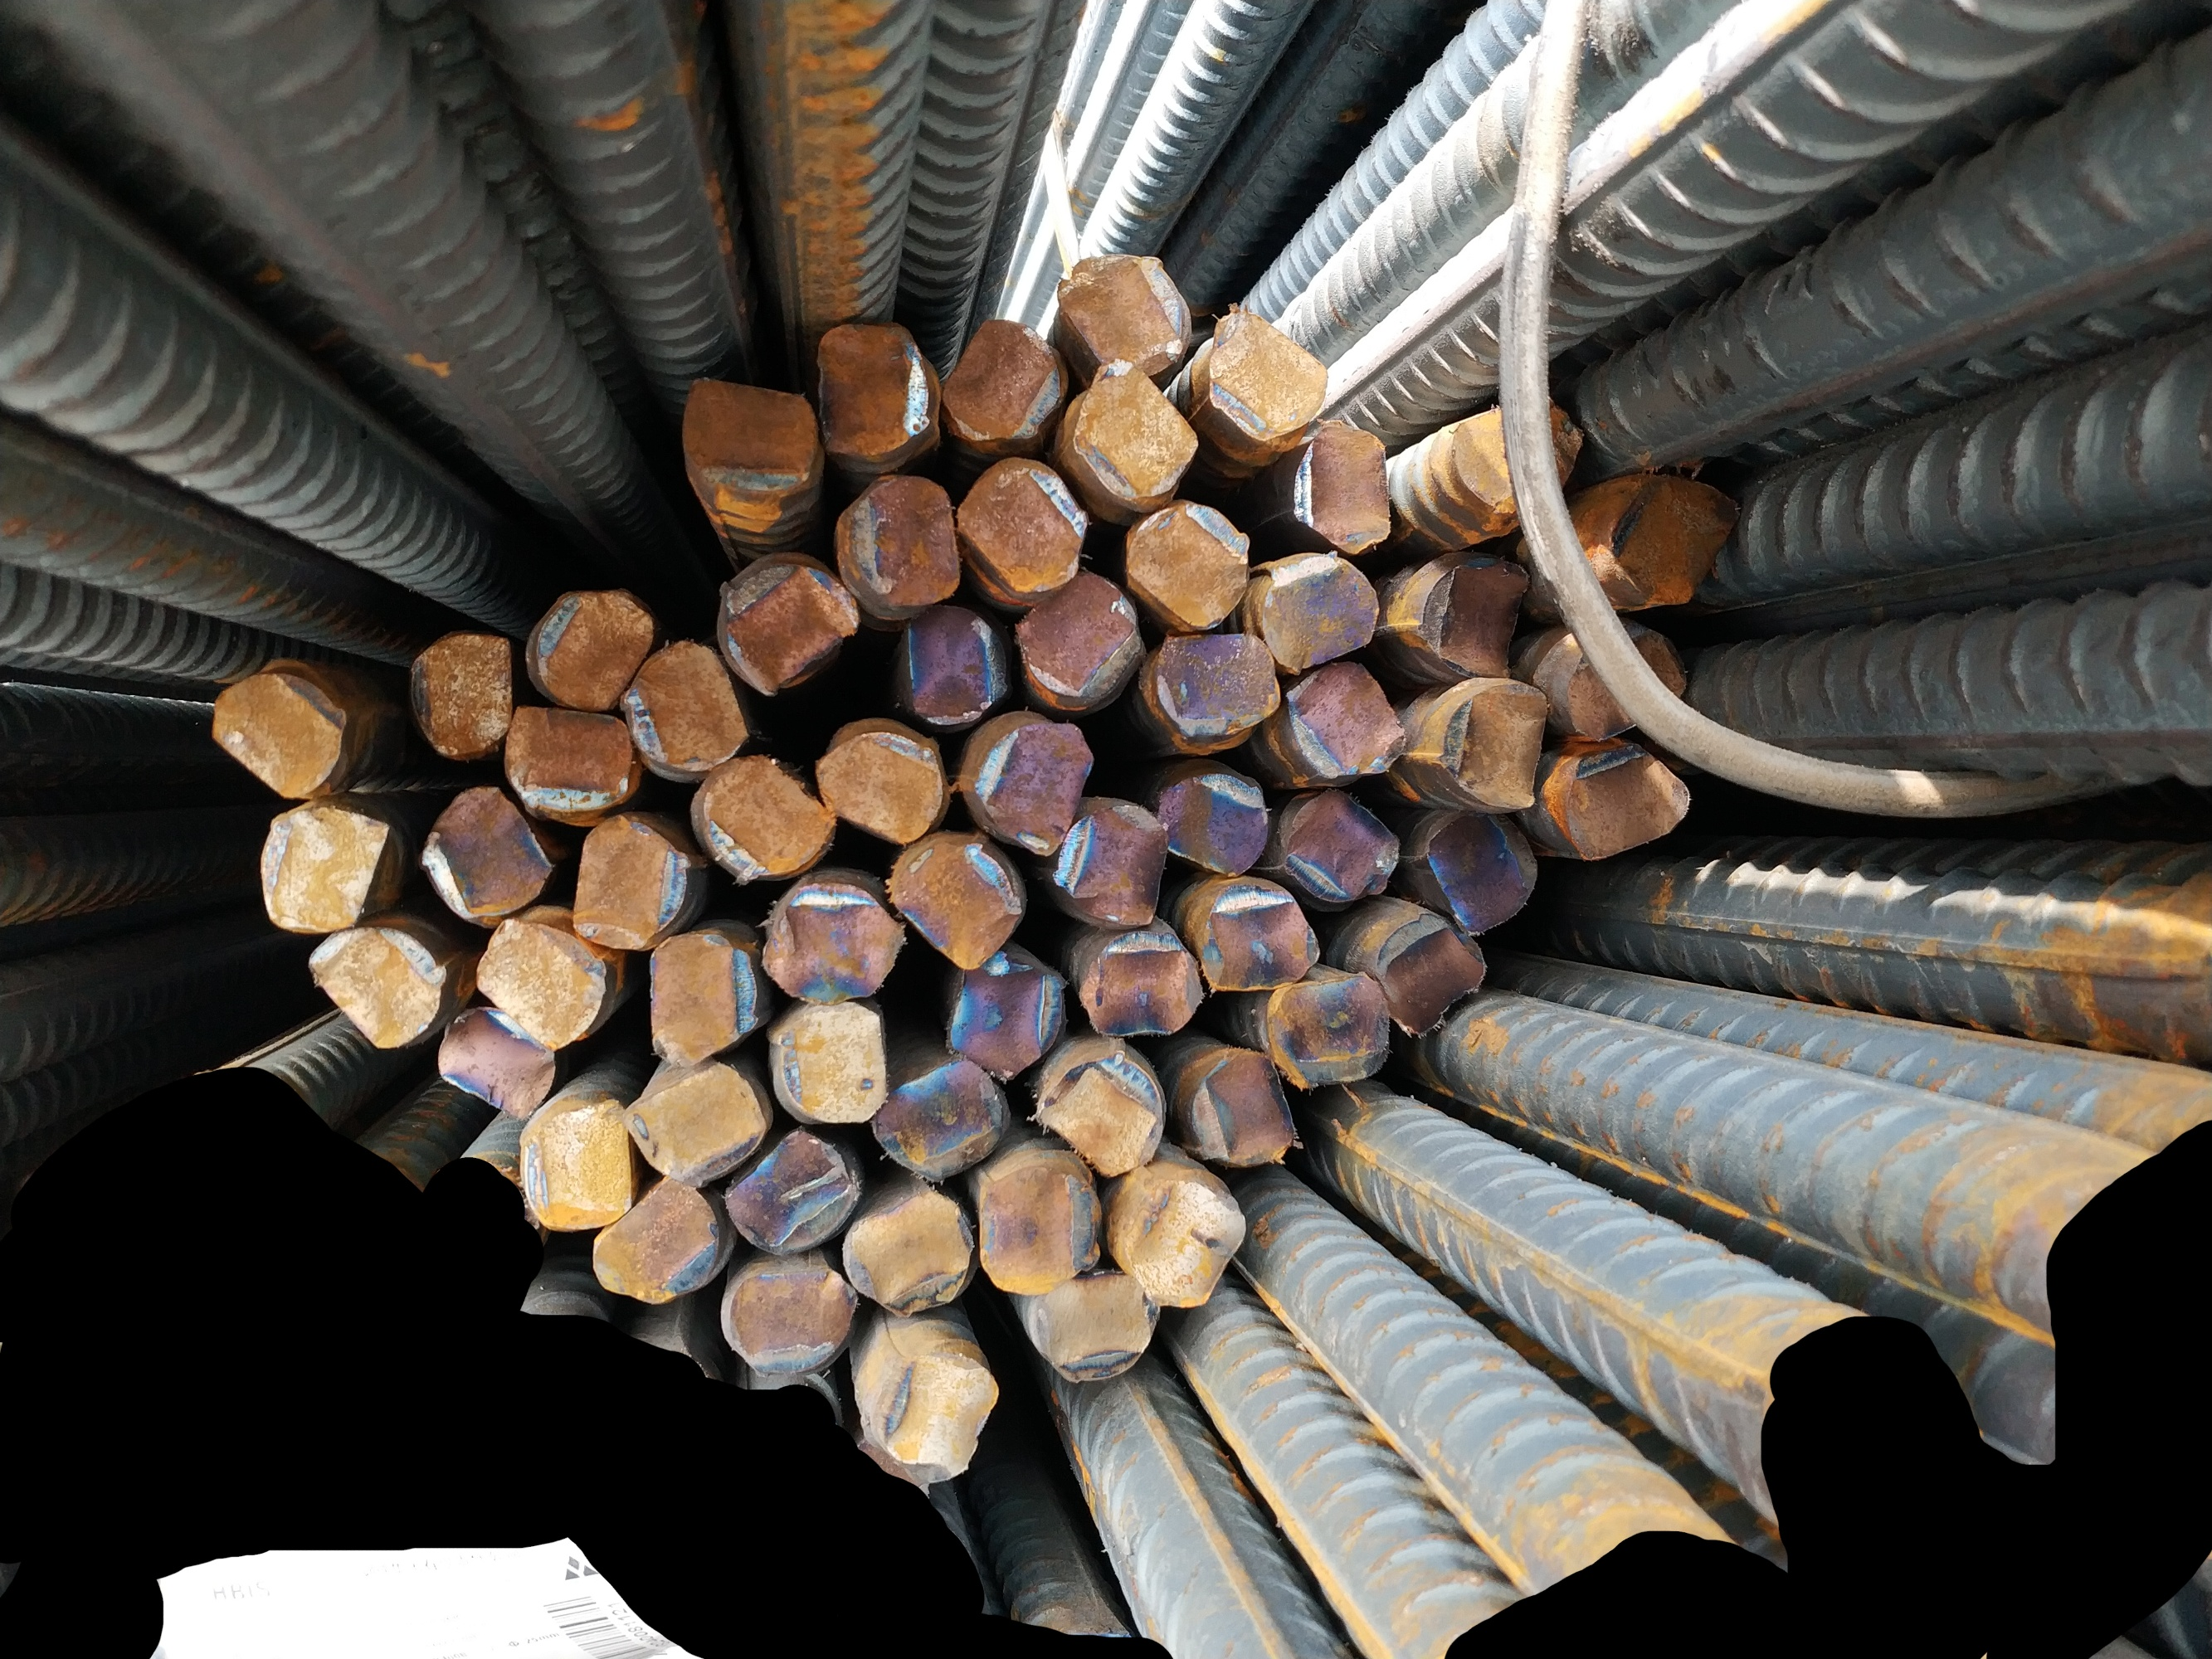rebar: (716, 549, 863, 701), (1065, 354, 1204, 512), (614, 1054, 774, 1188), (413, 777, 560, 924), (950, 451, 1093, 599), (1602, 467, 1748, 610), (202, 667, 354, 805), (1537, 737, 1698, 866), (251, 793, 394, 938), (882, 829, 1025, 974), (1105, 1171, 1250, 1314), (753, 880, 910, 1011), (615, 633, 755, 777), (1198, 307, 1333, 455), (300, 920, 450, 1054), (690, 749, 840, 884), (865, 1053, 1016, 1185), (471, 913, 612, 1054), (722, 1124, 866, 1262), (831, 467, 966, 613), (967, 716, 1102, 863), (865, 1349, 1002, 1490), (1119, 495, 1255, 638), (676, 368, 824, 498), (1013, 561, 1143, 709), (940, 950, 1077, 1089), (587, 1169, 723, 1310), (837, 1187, 978, 1323), (1051, 247, 1192, 382), (1028, 1047, 1171, 1180), (971, 1161, 1105, 1300), (567, 807, 694, 953), (1449, 385, 1586, 518), (514, 1091, 640, 1236), (812, 317, 936, 464), (1272, 653, 1414, 781), (1044, 795, 1173, 932), (1365, 904, 1494, 1042), (807, 725, 950, 849), (1143, 624, 1286, 748), (1259, 964, 1394, 1093), (720, 1258, 865, 1378), (643, 927, 762, 1073), (526, 587, 659, 718), (936, 314, 1069, 444), (769, 993, 894, 1131), (499, 695, 640, 817), (1255, 547, 1384, 678), (1419, 805, 1544, 939), (1028, 1265, 1166, 1387), (1279, 781, 1407, 911), (1288, 413, 1400, 559), (1435, 676, 1551, 816), (1074, 927, 1210, 1046), (1417, 549, 1536, 685), (404, 622, 518, 763), (1184, 1046, 1309, 1173), (1192, 877, 1325, 997), (1560, 626, 1694, 742), (432, 1004, 561, 1124), (1149, 767, 1276, 880), (899, 598, 1004, 735)
